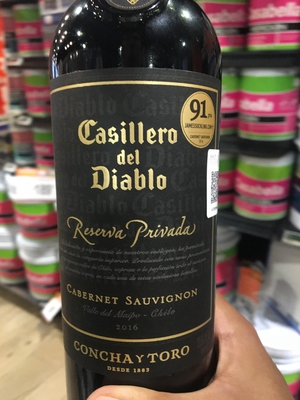casillero del diablo reserva privada cabernet sauvignon: (51, 1, 227, 400)
